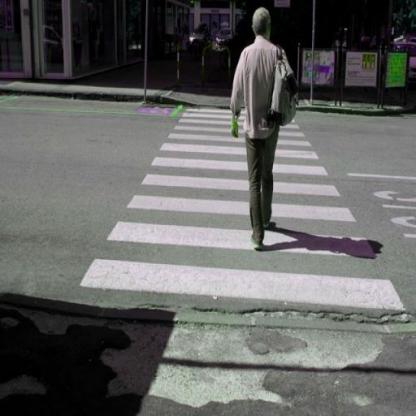crosswalk: (94, 187, 384, 260), (155, 130, 324, 163)
